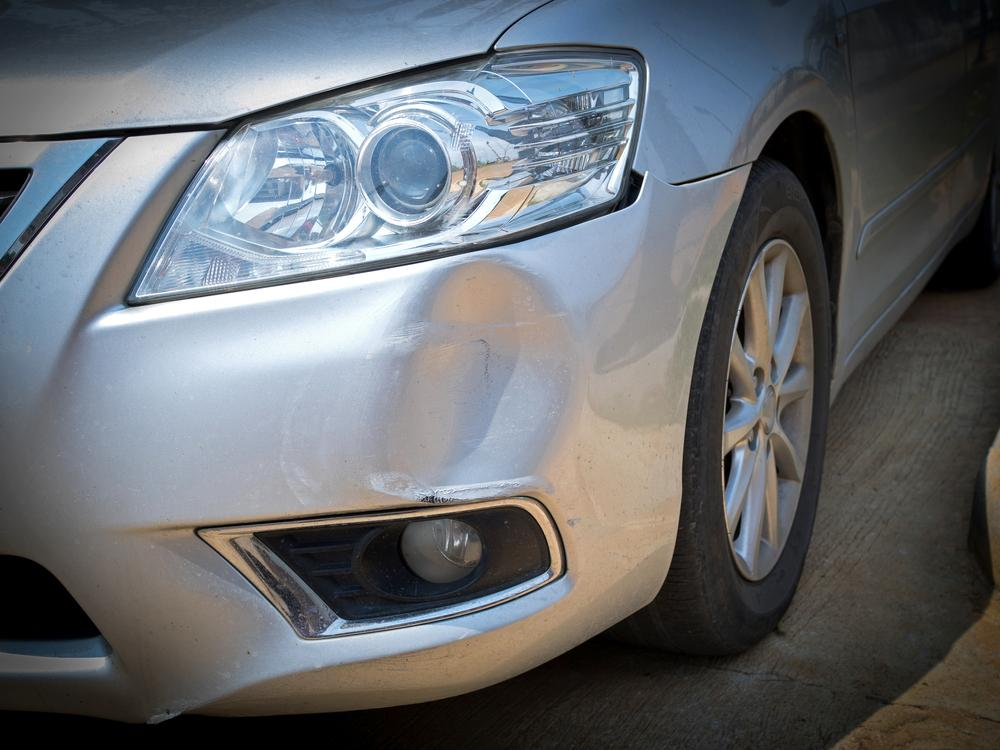dent: (364, 260, 582, 503)
